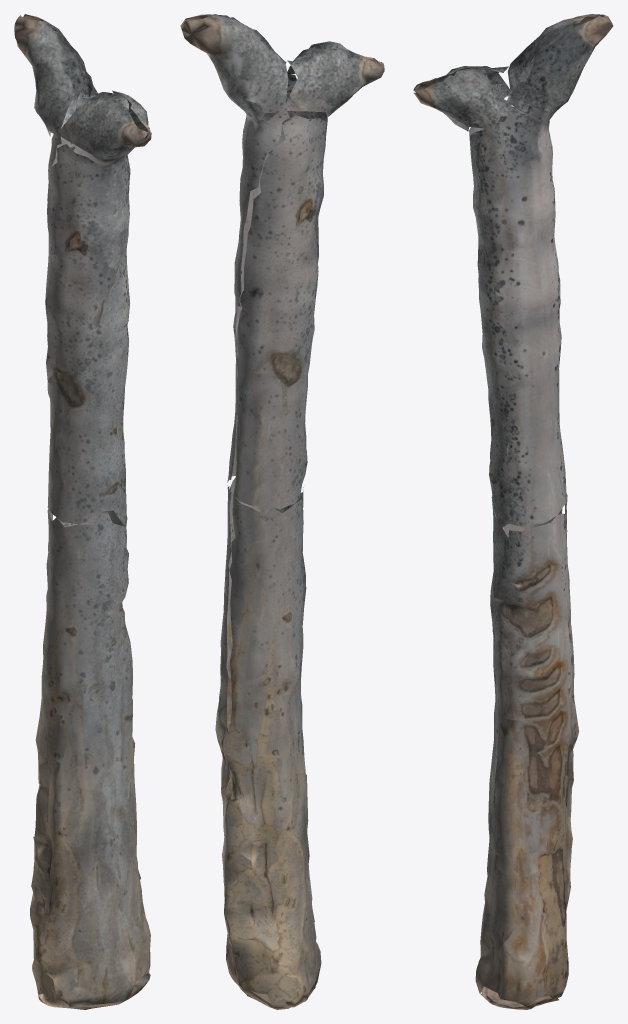
Rendered from deadquiver.glb.
3 views of the same model, side by side, from view 1: azimuth 90°, elevation 25°; view 2: azimuth 150°, elevation 25°; view 3: azimuth 330°, elevation 25° (orthographic). The views are drawn at different scales.
Visible parts, largest first — view 1: dead_quiver_trunk_LOD0; view 2: dead_quiver_trunk_LOD0; view 3: dead_quiver_trunk_LOD0.
Boxes of the visible parts, x1,y1,x2,y2 form: dead_quiver_trunk_LOD0: (14,14,151,1009); dead_quiver_trunk_LOD0: (180,14,384,1009); dead_quiver_trunk_LOD0: (413,14,613,1009).
Bounding box in the file's own units: 0.4491 × 2.99 × 0.3874.
1 material, 1 textured.
